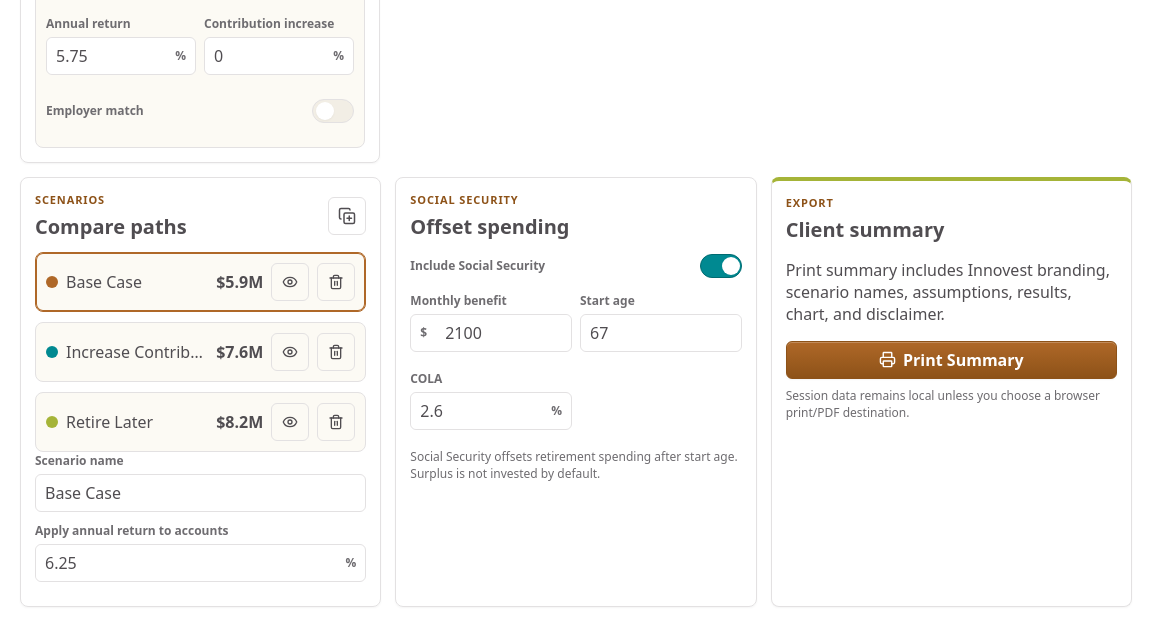
Test case: Retirement dashboard app › shows an empty chart state when all scenarios are hidden
(page scrolled)
What coordinates should you click on to do the following:
click the button named "hide base case"
I would click on:
 (290, 282)
Its box is x1=271 y1=263 x2=309 y2=301.
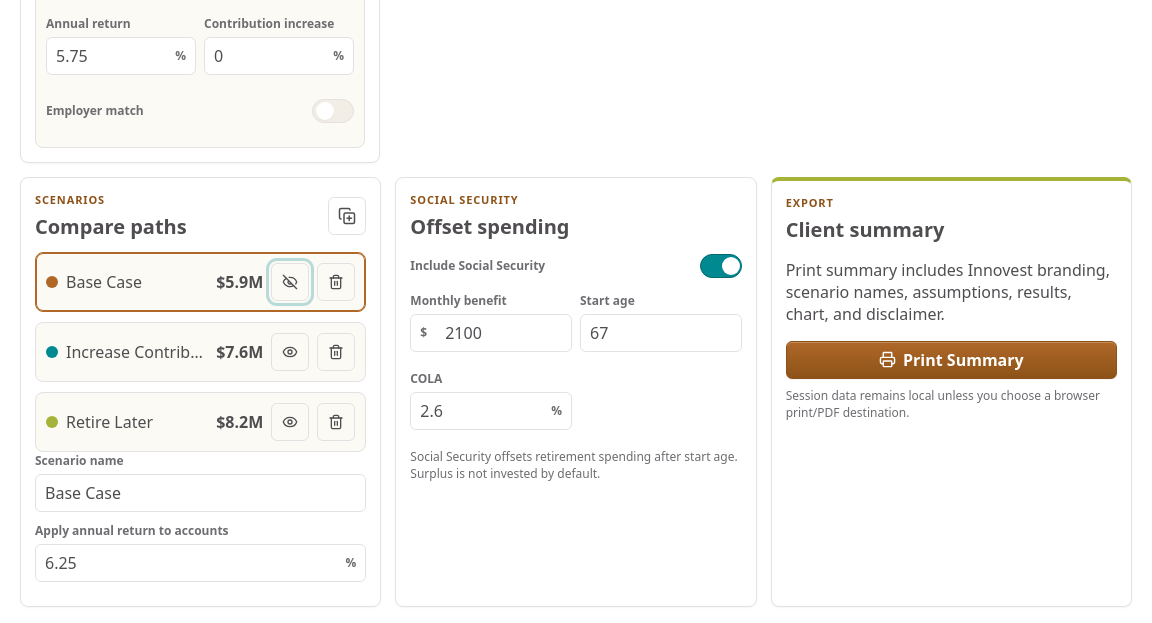
What coordinates should you click on to do the following:
click the button named "hide increase contributions"
I would click on:
 (290, 352)
Its box is x1=271 y1=333 x2=309 y2=371.
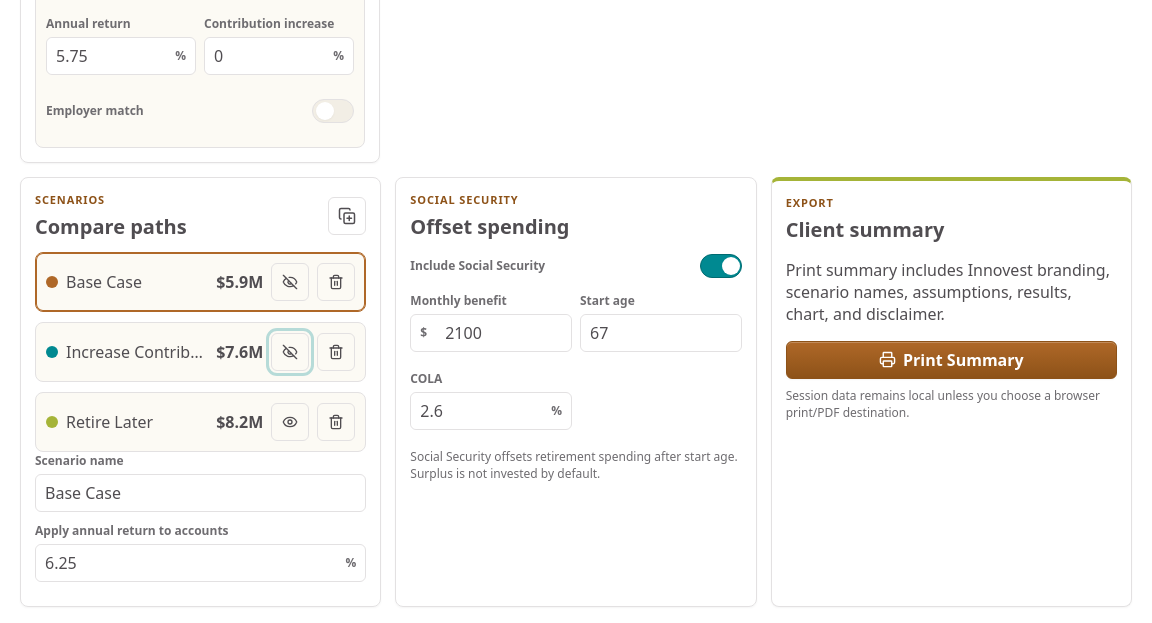
What coordinates should you click on to do the following:
click the button named "hide retire later"
I would click on:
 (290, 422)
Its box is x1=271 y1=403 x2=309 y2=441.
(page scrolled)
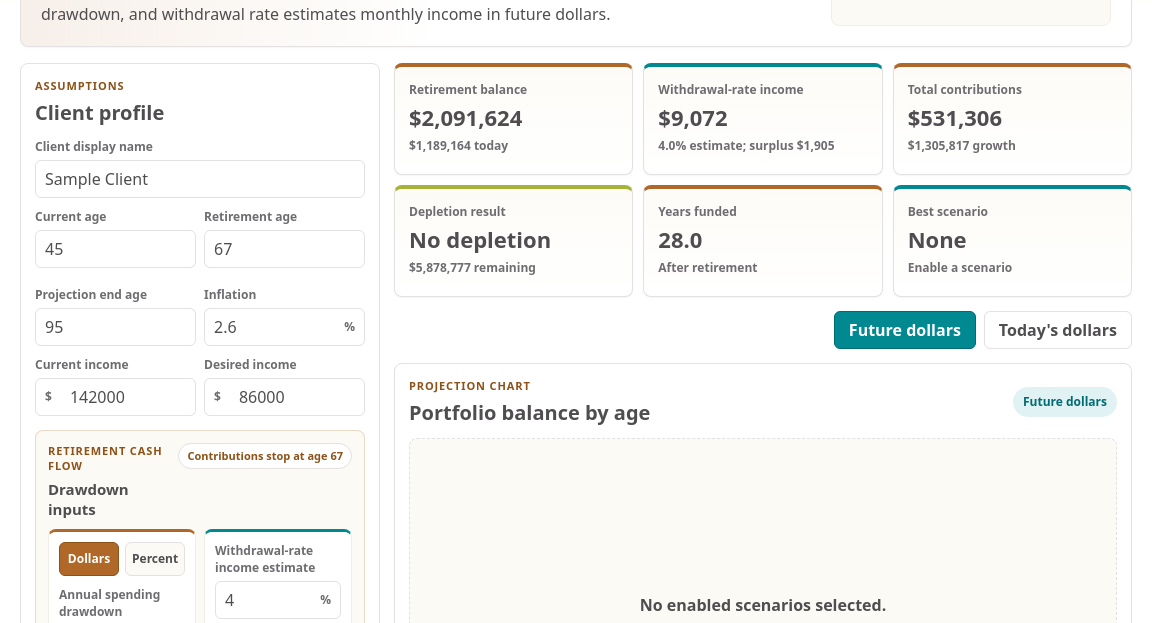
Now the text "No enabled scenarios selected." is shown 2 times
Now the text "Enable a scenario" is shown, box x1=908 y1=259 x2=1012 y2=276
